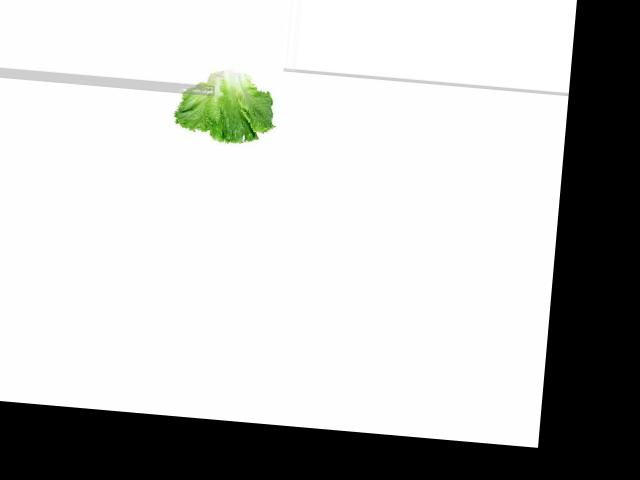lettuce: (176, 65, 278, 145)
